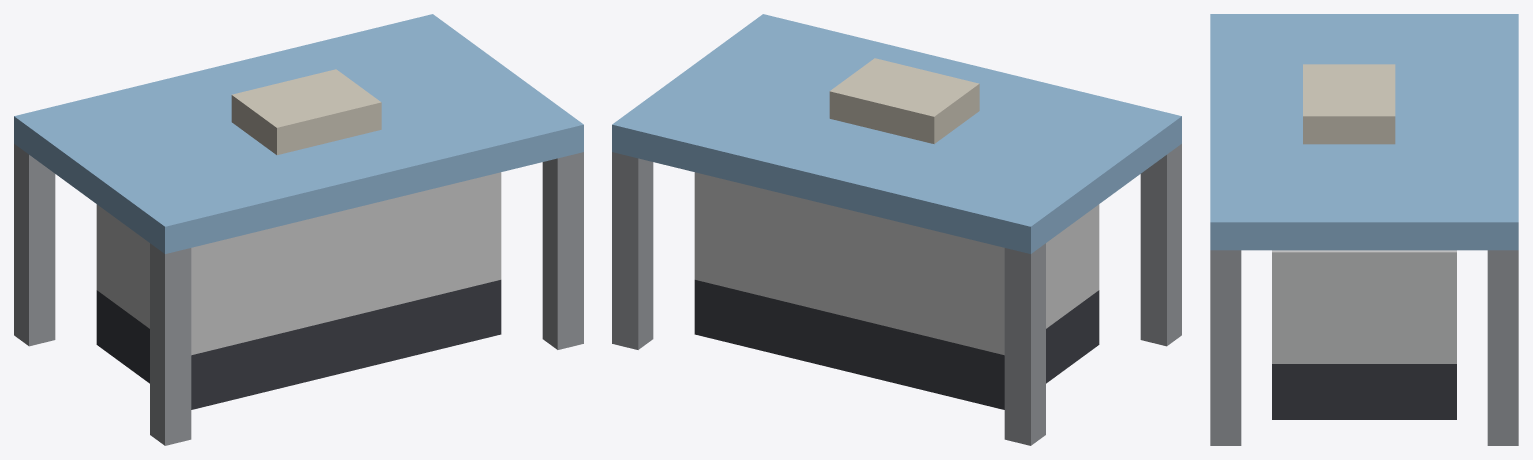
The model's file is table_basse.glb.
3 renders of one model, left to right at view 1: azimuth 30°, elevation 25°; view 2: azimuth 150°, elevation 25°; view 3: azimuth 270°, elevation 25°, orthographic.
Visible parts, largest first — view 1: main; view 2: main; view 3: main.
Part boxes in pixels (<box>): main: <box>14,14,583,445</box>; main: <box>612,14,1181,445</box>; main: <box>1210,14,1518,445</box>.
Bounding box in the file's own units: 1 × 0.5625 × 0.625.
